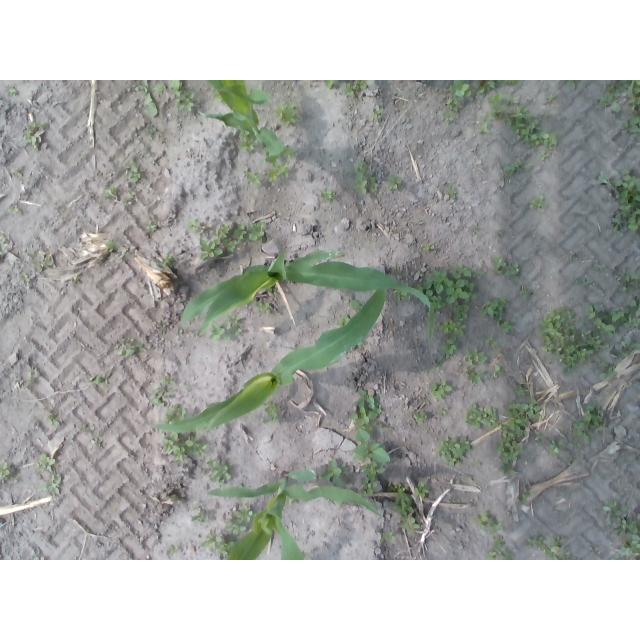Maize: (150, 273, 389, 437), (180, 247, 437, 342), (206, 469, 383, 560), (195, 80, 285, 166)
Weeds: (537, 307, 609, 378), (486, 91, 559, 153), (496, 399, 543, 478), (416, 264, 484, 310), (602, 498, 640, 560), (583, 295, 640, 334), (612, 170, 640, 233), (523, 534, 581, 560), (572, 404, 604, 449), (352, 428, 391, 464), (598, 80, 640, 112), (348, 389, 382, 428), (432, 434, 472, 466), (346, 161, 380, 195), (135, 80, 166, 117), (439, 304, 470, 336), (224, 505, 257, 535), (359, 459, 385, 497), (215, 223, 246, 253), (202, 530, 235, 558), (210, 316, 243, 343), (465, 403, 498, 429), (320, 458, 349, 487), (491, 255, 522, 281), (170, 80, 195, 112), (447, 80, 472, 112), (435, 337, 458, 370), (481, 297, 508, 325), (390, 489, 414, 520), (151, 374, 174, 406), (472, 510, 502, 534), (206, 458, 230, 487), (476, 80, 524, 94), (22, 121, 45, 150), (486, 537, 515, 560), (163, 433, 185, 462), (273, 100, 299, 124), (27, 249, 53, 272), (503, 161, 533, 180), (617, 268, 640, 292), (266, 160, 290, 182), (614, 338, 640, 358), (119, 338, 146, 357), (200, 238, 223, 260), (430, 379, 453, 401), (262, 400, 282, 425), (163, 404, 186, 425), (620, 114, 640, 138), (462, 347, 487, 366), (185, 438, 207, 459), (189, 501, 207, 526), (41, 474, 62, 495), (35, 452, 57, 472), (238, 129, 257, 152), (344, 80, 368, 98), (466, 366, 487, 384), (126, 161, 141, 184), (393, 284, 411, 303), (246, 222, 263, 242), (401, 516, 422, 532), (183, 217, 201, 235), (549, 437, 567, 455), (590, 169, 610, 185), (527, 195, 548, 210), (412, 482, 430, 499), (386, 176, 403, 193), (482, 333, 499, 349), (600, 364, 616, 380), (243, 171, 261, 185), (90, 374, 111, 386), (513, 383, 529, 398), (491, 362, 506, 378), (280, 145, 297, 159), (45, 414, 62, 427), (101, 186, 119, 198), (320, 188, 336, 201), (143, 126, 159, 139), (500, 320, 516, 333), (521, 488, 533, 505), (380, 532, 397, 544), (371, 105, 385, 119), (255, 301, 270, 314), (336, 314, 352, 326), (104, 240, 120, 252), (0, 461, 10, 480), (387, 483, 406, 493), (11, 166, 25, 179), (519, 287, 534, 299), (446, 185, 458, 200), (413, 411, 428, 423), (349, 300, 364, 311), (442, 110, 454, 123), (161, 255, 175, 266), (564, 80, 580, 89), (579, 277, 592, 288), (212, 88, 223, 101), (6, 87, 19, 97), (124, 193, 137, 203), (479, 120, 489, 132), (266, 286, 279, 295), (322, 80, 335, 89), (146, 224, 159, 233), (539, 151, 549, 162), (303, 550, 314, 560), (19, 272, 30, 282), (438, 407, 449, 417), (7, 206, 19, 215), (421, 243, 435, 249), (169, 544, 178, 552), (1, 235, 8, 245), (473, 225, 481, 233), (474, 461, 482, 467), (417, 219, 424, 225), (0, 250, 4, 258)
